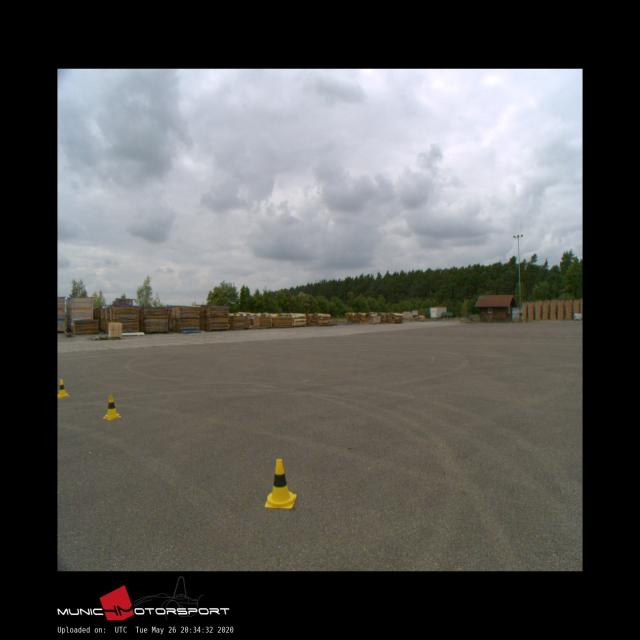yellow_cone: (264, 458, 296, 508), (102, 394, 120, 419), (58, 379, 68, 396)
